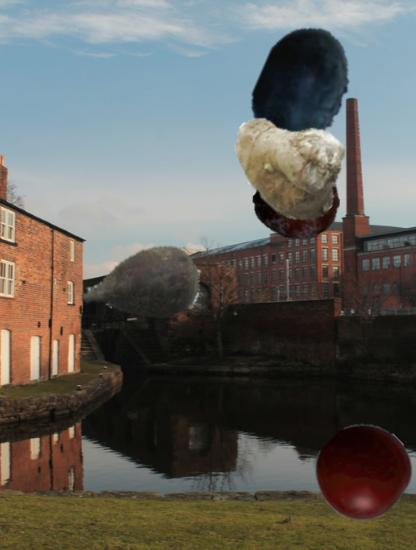Beetroot: (79, 223, 207, 351)
Blueberry: (239, 25, 365, 151)
Cherry: (315, 423, 411, 519)
Ginger: (230, 100, 353, 223)
Plum: (253, 157, 340, 244)
